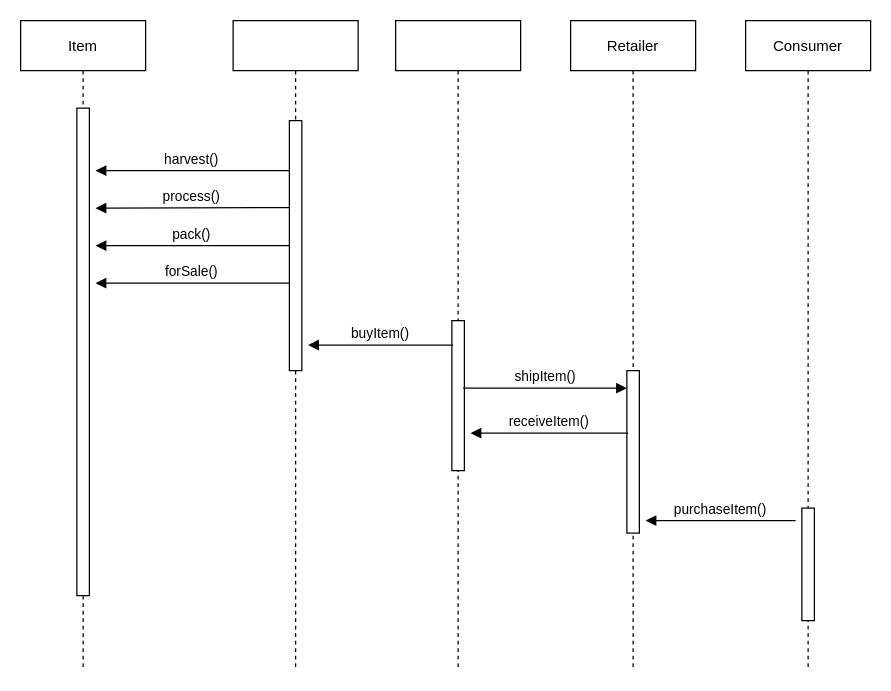
The diagram is 891 pixels wide and 691 high, and some of its shapes have lost their labels. The box of each missing label's shape, as (x1, y1, x2, y2) in pixels:
Distributor: (394, 19, 521, 671)
Harvester: (232, 19, 358, 671)
